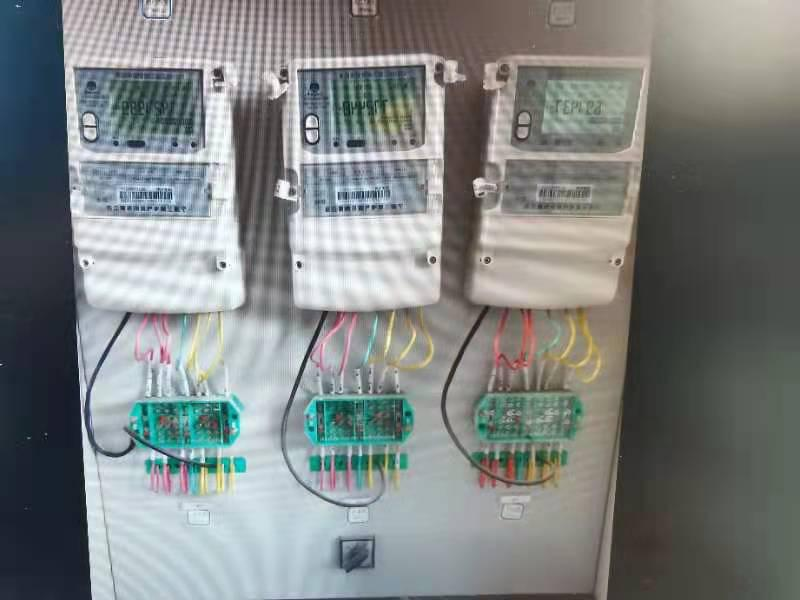digital: (63, 58, 245, 312), (468, 56, 649, 310), (285, 56, 442, 311)
